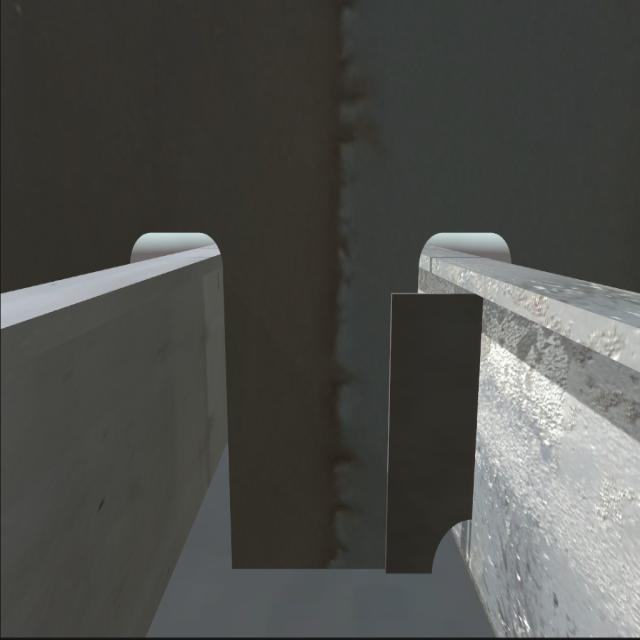fillet_hole: (427, 516, 475, 576)
fillet_yong_jeop_jang: (229, 556, 435, 584)
longi_yong_jeop_jang: (471, 285, 486, 512)
plate_CP01: (390, 287, 474, 573)
